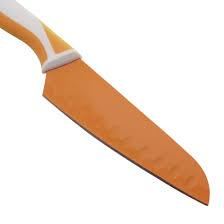Knife: (0, 0, 210, 205)
